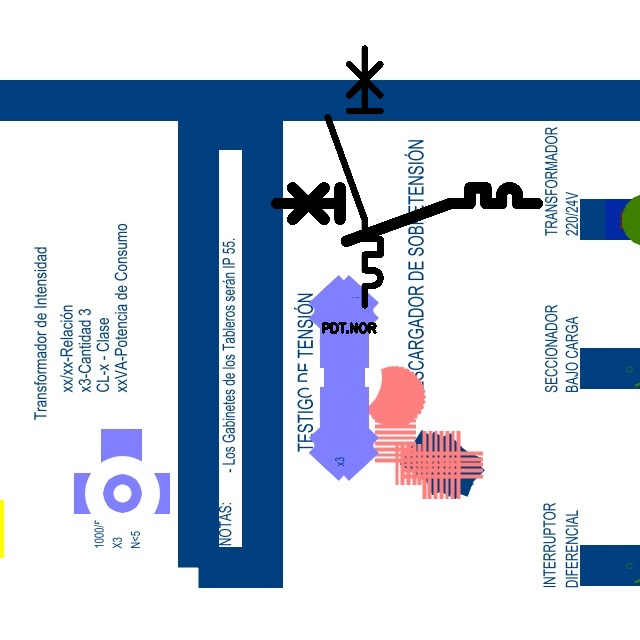interruptor_termomagnetico: (270, 181, 544, 248), (321, 42, 387, 312)
